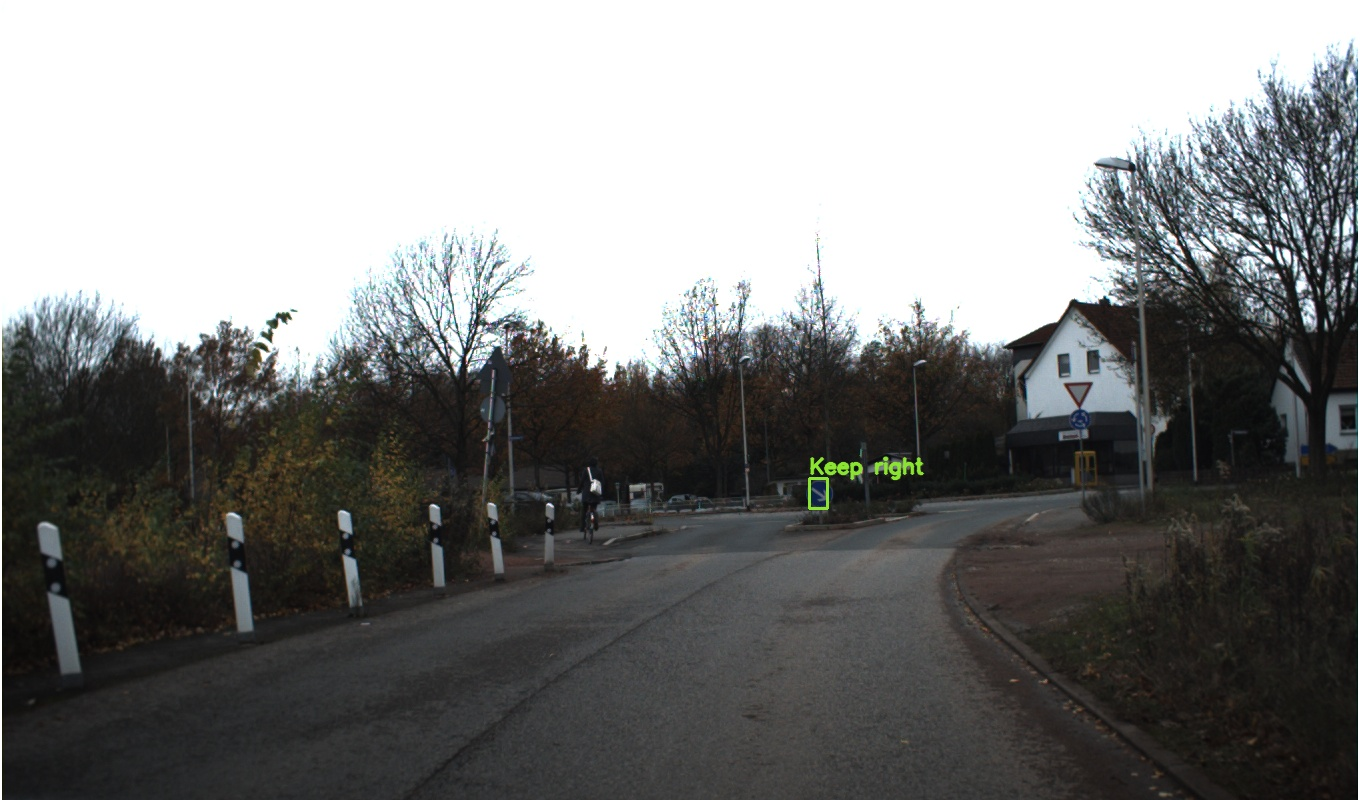Speed limit (30km/h): (816, 334, 858, 374)
